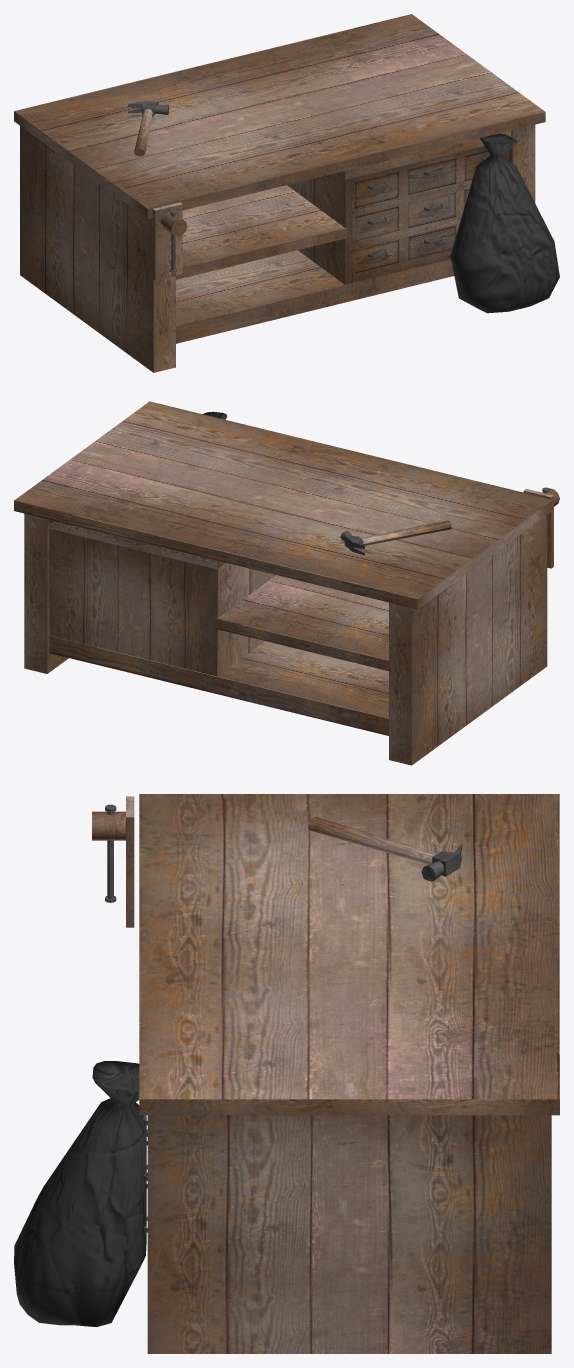
File: MesaTaller.FBX
3 views of the same model, one above another, from view 1: azimuth 30°, elevation 25°; view 2: azimuth 150°, elevation 25°; view 3: azimuth 270°, elevation 25° (orthographic). The views are drawn at different scales.
Visible parts, largest first — view 1: MesonCarp, BolsaBasura, martillo; view 2: MesonCarp, martillo; view 3: MesonCarp, BolsaBasura, martillo.
Boxes of the visible parts, bbox=[...] form: MesonCarp: bbox=[14, 14, 545, 372]; BolsaBasura: bbox=[450, 133, 559, 313]; martillo: bbox=[128, 101, 169, 156]; MesonCarp: bbox=[14, 401, 559, 765]; martillo: bbox=[340, 520, 451, 555]; MesonCarp: bbox=[92, 794, 559, 1353]; BolsaBasura: bbox=[14, 1061, 146, 1327]; martillo: bbox=[308, 817, 462, 881].
Bounding box in the file's own units: 68.97 × 29.01 × 52.1.
